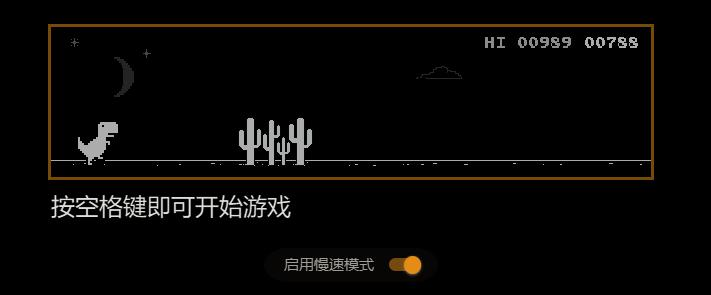cactus: (238, 117, 315, 167)
dino: (75, 120, 119, 165)
